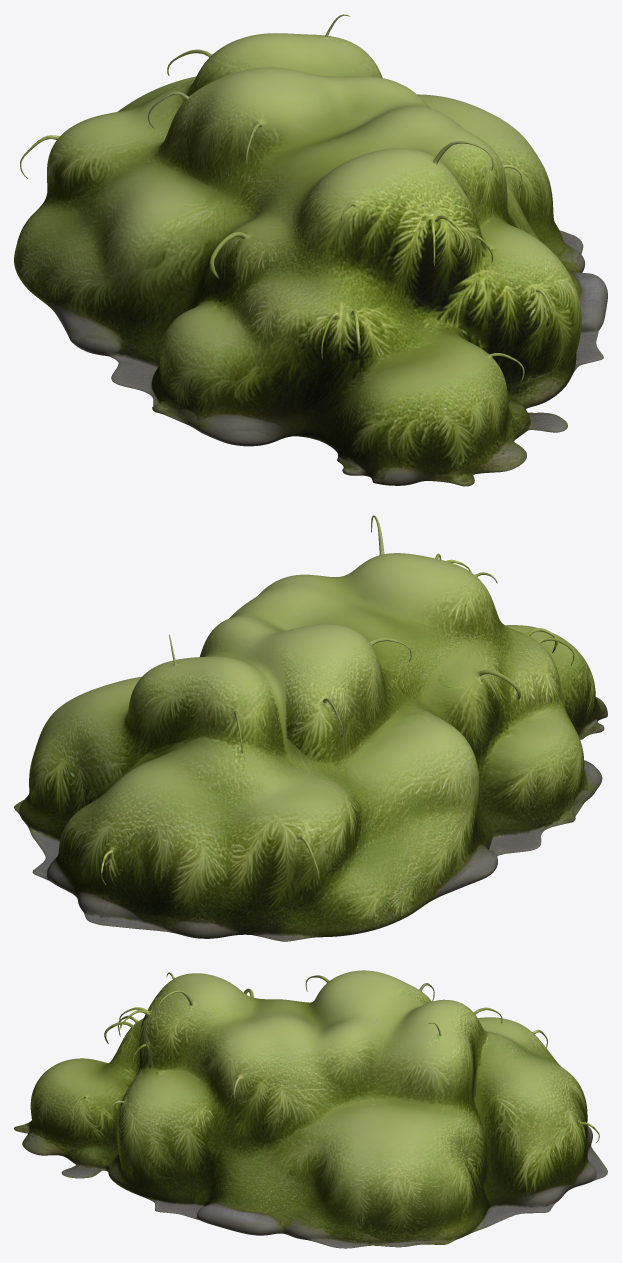
Rendered from moss.glb.
3 views of the same model, one above another, from view 1: azimuth 30°, elevation 25°; view 2: azimuth 150°, elevation 25°; view 3: azimuth 270°, elevation 25° (orthographic). The views are drawn at different scales.
Visible parts, largest first — view 1: node_0; view 2: node_0; view 3: node_0.
Part boxes in pixels (x1,y1,x2,y2): node_0: (14,14,607,486); node_0: (14,515,607,941); node_0: (14,970,607,1248).
Bounding box in the file's own units: 0.7845 × 0.3617 × 1.11.
Materials: 1 (1 with a texture image).
